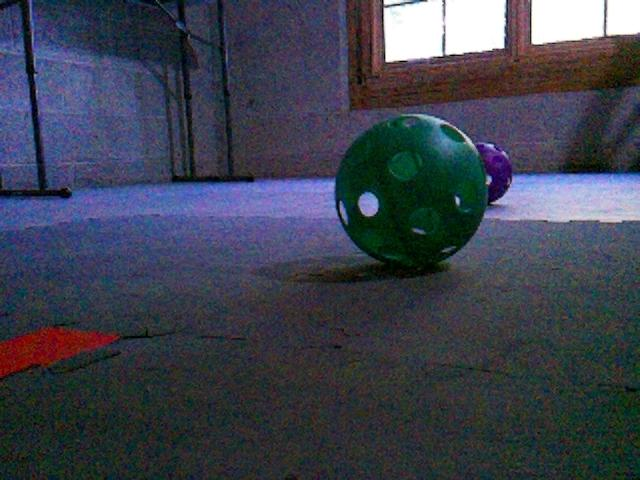Green: (333, 114, 488, 268)
Purple: (473, 141, 512, 203)
